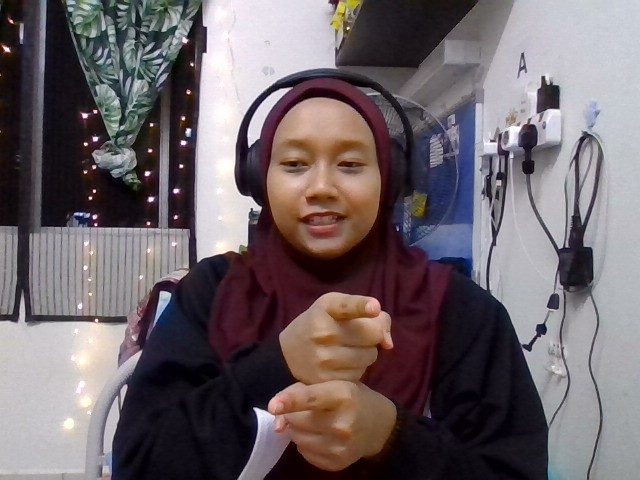Betul: (268, 291, 397, 470)
